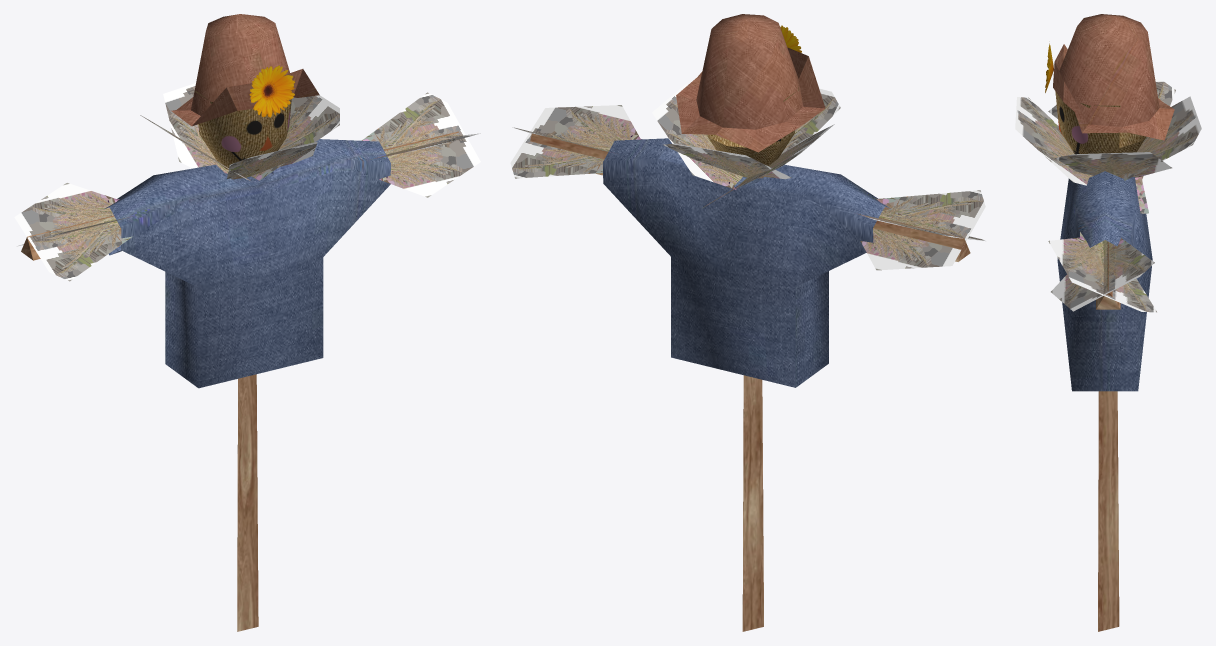
3 renders of one model, left to right at view 1: azimuth 30°, elevation 25°; view 2: azimuth 150°, elevation 25°; view 3: azimuth 270°, elevation 25°, orthographic.
Visible parts, largest first — view 1: epouvantail01_01; view 2: epouvantail01_01; view 3: epouvantail01_01.
Part boxes in pixels (x1=…): epouvantail01_01: x1=14, y1=14, x2=480, y2=631; epouvantail01_01: x1=510, y1=14, x2=985, y2=631; epouvantail01_01: x1=1015, y1=14, x2=1201, y2=631.
Size of the model in its own units: 29.42 by 39.27 by 10.89.
